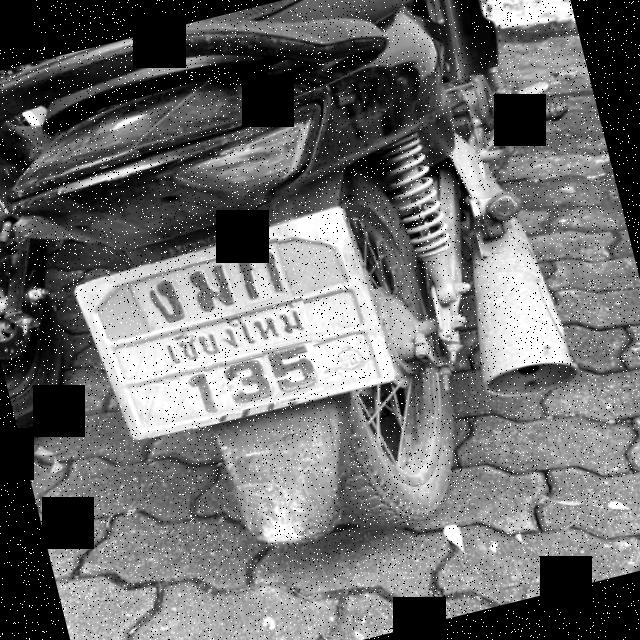letters: (230, 237, 291, 307), (132, 266, 194, 332), (262, 339, 324, 404), (185, 254, 243, 319), (177, 356, 224, 426), (228, 356, 274, 414)
license-plate: (87, 215, 388, 439)
province: (152, 297, 312, 372)
